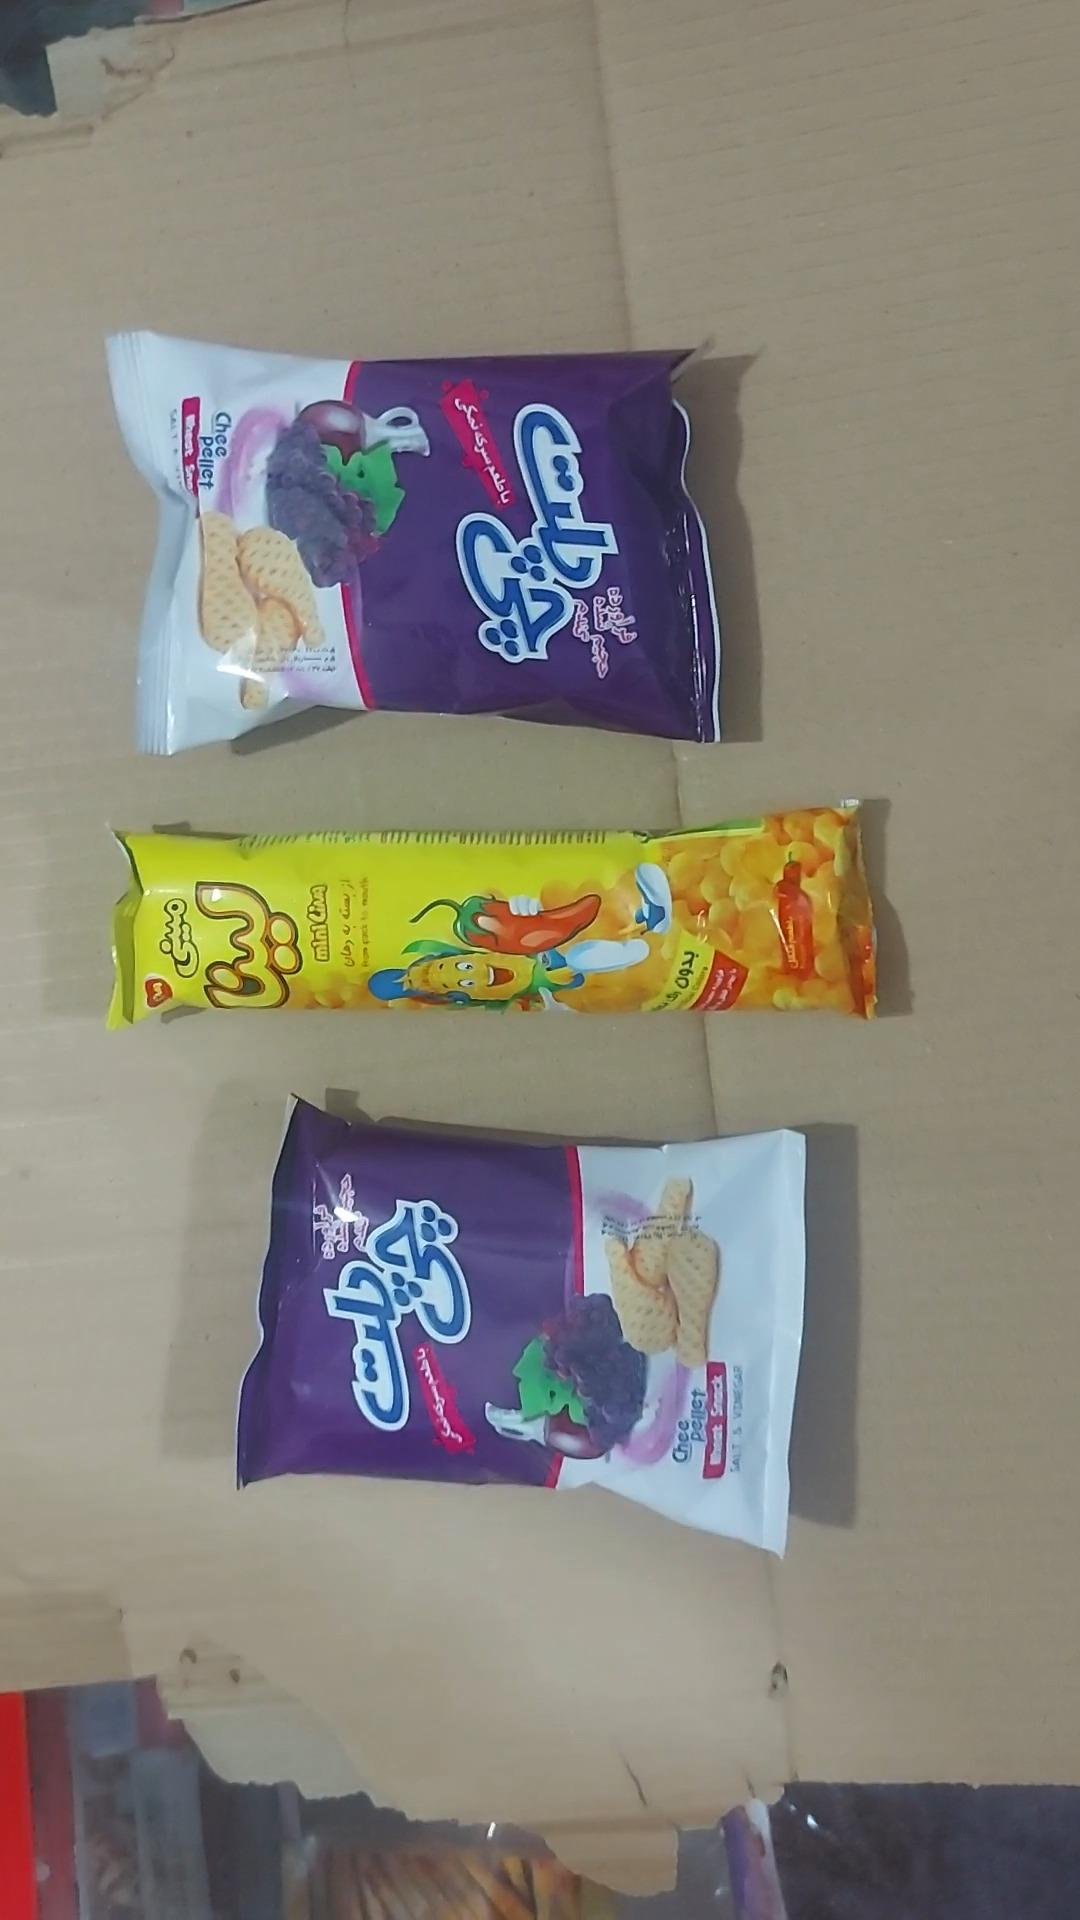Chee pellet vinegar: (236, 1098, 806, 1556), (107, 332, 720, 756)
Mini Lina: (108, 804, 876, 1027)
